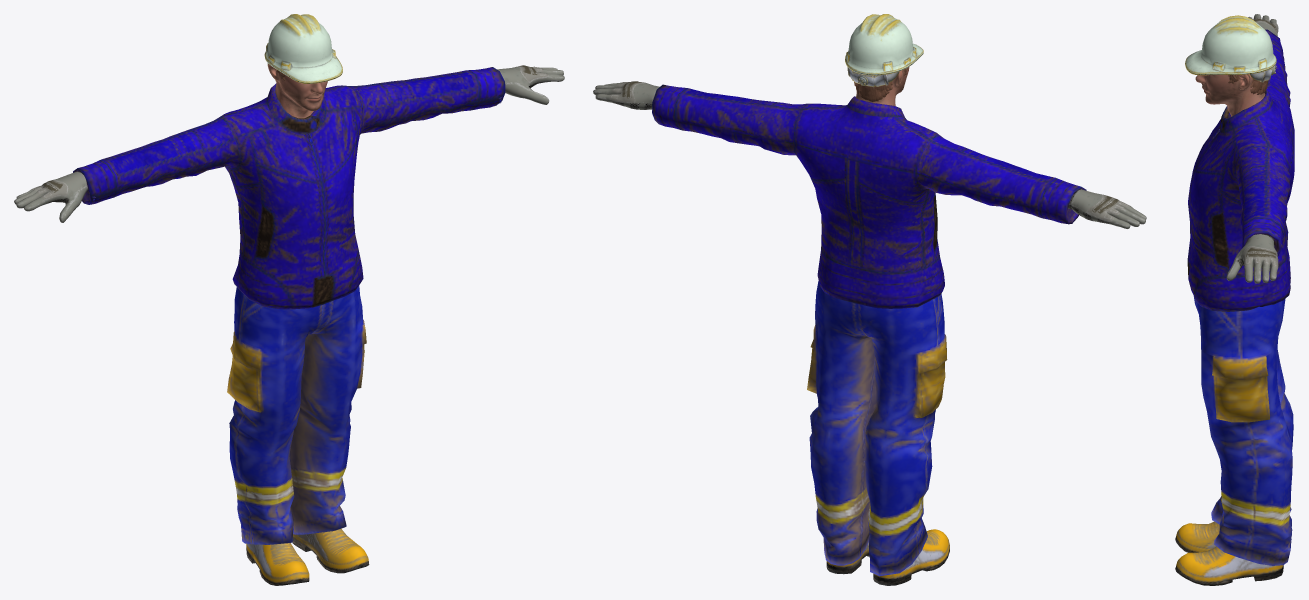
The model's file is cave.obj.
The picture shows the model from 3 angles, left to right: view 1: azimuth 30°, elevation 25°; view 2: azimuth 150°, elevation 25°; view 3: azimuth 270°, elevation 25°; orthographic projection.
Visible parts, largest first — view 1: Tops, Bottoms, Shoes, Hats, Gloves, Body; view 2: Tops, Bottoms, Hats, Gloves, Shoes; view 3: Bottoms, Tops, Hats, Shoes, Gloves, Body, Hair.
Part boxes in pixels (x1,y1,x2,y2): Tops: (73,67,505,309); Bottoms: (227,285,366,544); Shoes: (246,528,369,585); Hats: (264,14,342,83); Gloves: (14,65,564,222); Body: (268,64,327,118); Tops: (652,84,1086,308); Bottoms: (807,281,947,576); Hats: (845,14,923,87); Gloves: (593,81,1146,228); Shoes: (826,529,949,585); Bottoms: (1193,296,1293,565); Tops: (1187,29,1294,311); Hats: (1185,15,1276,82); Shoes: (1175,521,1283,585); Gloves: (1226,14,1278,283); Body: (1195,74,1265,116); Hair: (1204,45,1268,94).
Size of the model in its own units: 194 by 185 by 36.83.
Materials: 1 (1 with a texture image).
